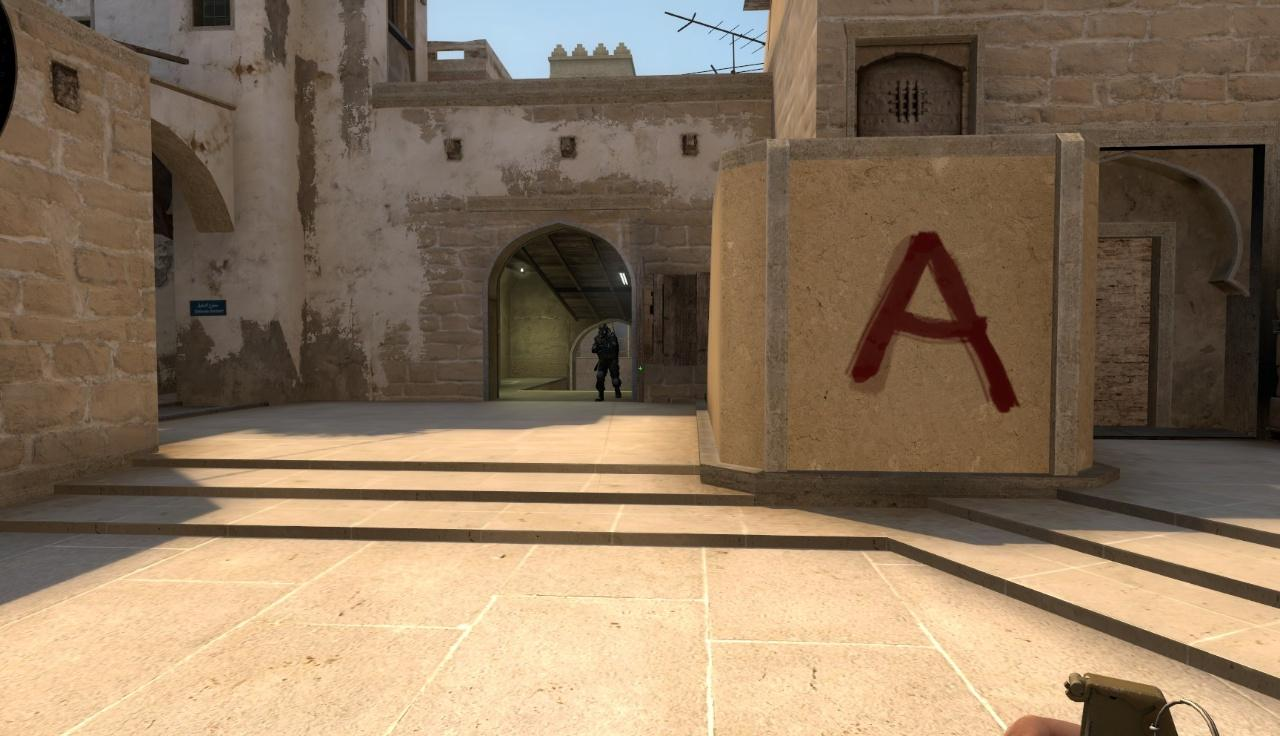ct: (591, 323, 621, 401)
cthead: (598, 323, 610, 337)
